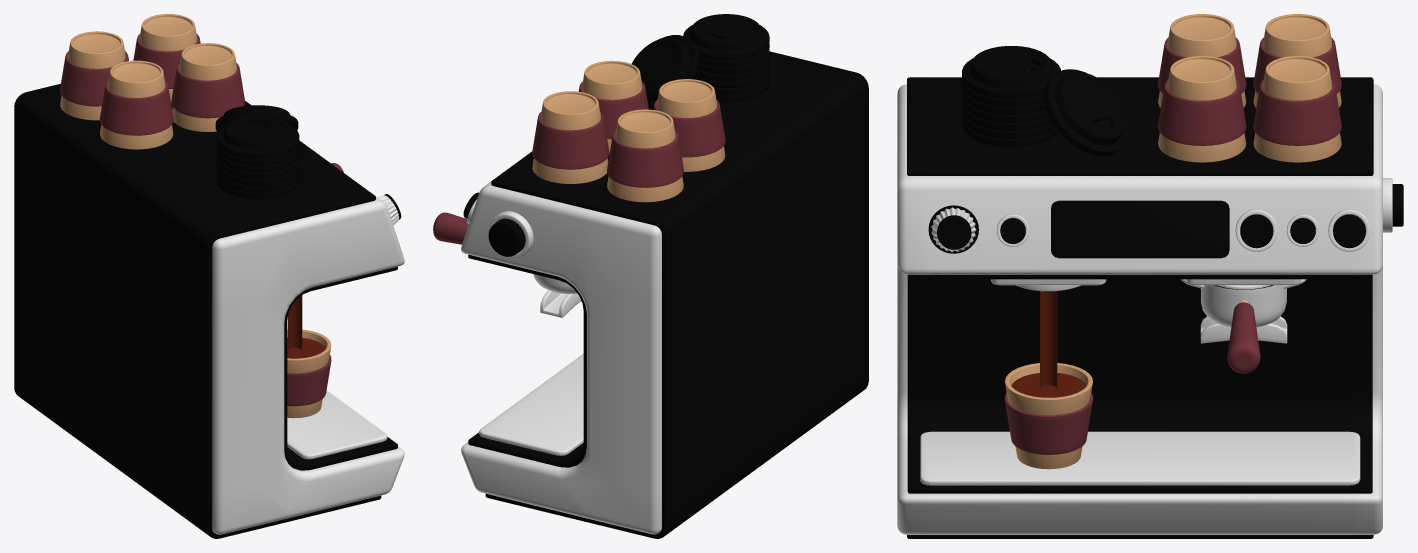
File: stylized_espresso_machine_3d_model.glb
The picture shows the model from 3 angles, left to right: view 1: azimuth 30°, elevation 25°; view 2: azimuth 150°, elevation 25°; view 3: azimuth 270°, elevation 25°; orthographic projection. The views are drawn at different scales.
Visible parts, largest first — view 1: Plane.003_3, Plane_0, Circle.004_8, Plane.002_2, Circle.005_10, Circle.006_9, Circle.008_11, Circle.007_12, Circle_5, Plane.001_1, Circle.002_7, Circle.001_4 (+6 smaller); view 2: Plane.003_3, Plane_0, Plane.002_2, Circle.004_8, Circle_5, Circle.002_7, Circle.003_6, Circle.001_4, Circle.009_13, Circle.005_10, Plane.001_1, Circle.007_12 (+6 smaller); view 3: Plane.001_1, Plane_0, Plane.003_3, Plane.002_2, Plane.004_16, Circle.004_8, Circle.009_13, Circle.007_12, Circle.002_7, Circle.008_11, Circle.003_6, Circle.023_30 (+18 smaller).
Boxes of the visible parts, x1,y1,x2,y2 form: Plane.003_3: (14, 83, 381, 538); Plane_0: (212, 196, 404, 534); Circle.004_8: (216, 114, 299, 199); Plane.002_2: (287, 390, 387, 459); Circle.005_10: (100, 60, 173, 149); Circle.006_9: (99, 80, 173, 135); Circle.008_11: (171, 63, 244, 118); Circle.007_12: (172, 43, 236, 131); Circle_5: (60, 31, 125, 120); Plane.001_1: (284, 266, 397, 470); Circle.002_7: (139, 14, 197, 102); Circle.001_4: (60, 51, 128, 106); Plane.003_3: (485, 51, 868, 538); Plane_0: (461, 181, 661, 534); Plane.002_2: (479, 354, 583, 455); Circle.004_8: (683, 14, 769, 102); Circle_5: (607, 109, 683, 202); Circle.002_7: (532, 91, 608, 183); Circle.003_6: (532, 111, 609, 169); Circle.001_4: (607, 130, 683, 187); Circle.009_13: (631, 35, 699, 109); Circle.005_10: (656, 79, 725, 171); Plane.001_1: (468, 254, 586, 467); Circle.007_12: (582, 60, 642, 153); Plane.001_1: (907, 274, 1372, 493); Plane_0: (897, 84, 1382, 534); Plane.003_3: (907, 77, 1373, 538); Plane.002_2: (920, 431, 1360, 485); Plane.004_16: (1051, 200, 1229, 258); Circle.004_8: (962, 46, 1060, 147); Circle.009_13: (1044, 69, 1128, 156); Circle.007_12: (1158, 56, 1246, 162); Circle.002_7: (1253, 56, 1341, 162); Circle.008_11: (1158, 79, 1246, 145); Circle.003_6: (1253, 79, 1341, 145); Circle.023_30: (1005, 363, 1092, 469).
Bounding box in the file's own units: 4.4 × 5.66 × 5.89.
